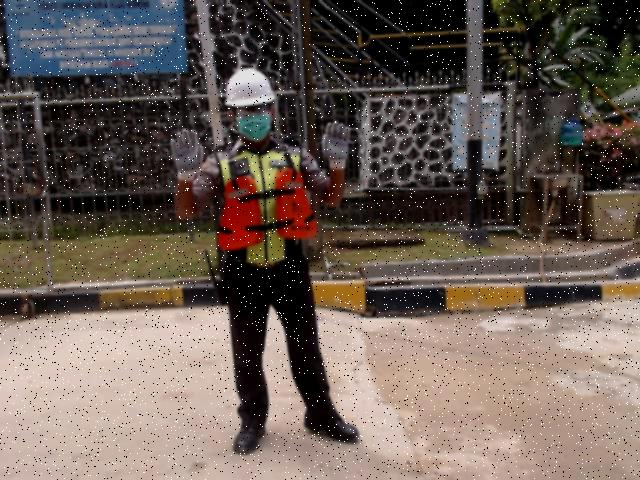glasses: (230, 101, 273, 117)
gloves: (168, 128, 207, 184), (320, 119, 353, 171)
helmet: (224, 67, 277, 106)
mask: (231, 114, 275, 142)
safety-shoes: (298, 400, 362, 448), (228, 408, 266, 452)
vest: (218, 172, 315, 251)
